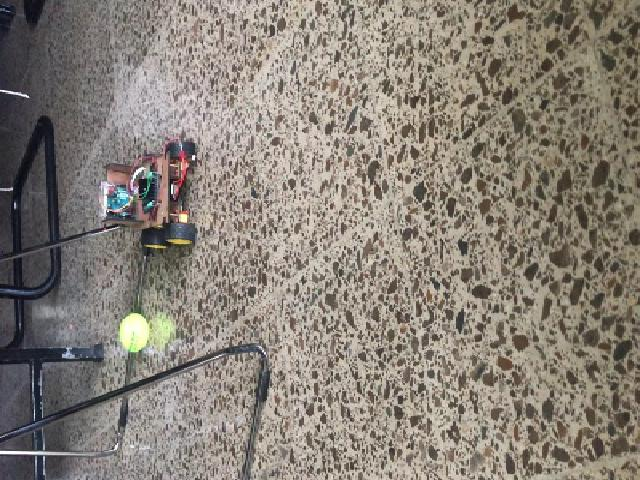Ball: (117, 314, 149, 350)
Robot: (101, 139, 195, 248)
